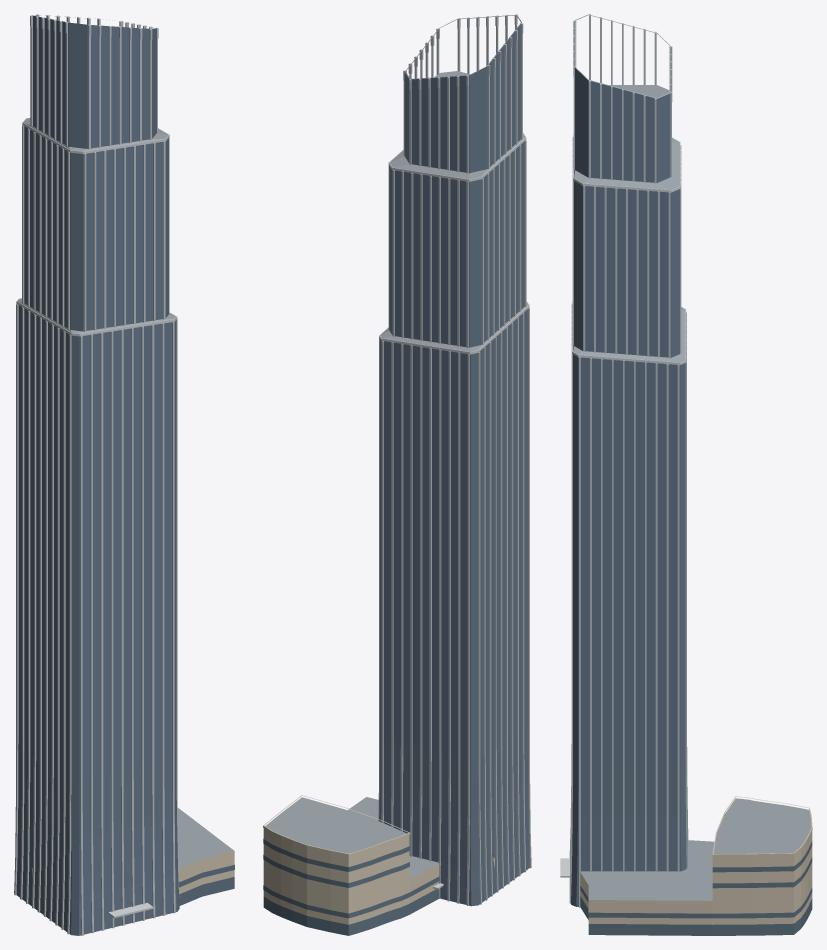
File: guangzhou-ctf-finance-centre.glb
The picture shows the model from 3 angles, left to right: view 1: azimuth 30°, elevation 25°; view 2: azimuth 150°, elevation 25°; view 3: azimuth 270°, elevation 25°; orthographic projection. The views are drawn at different scales.
Visible parts, largest first — view 1: Guangzhou CTF Finance Centre; view 2: Guangzhou CTF Finance Centre; view 3: Guangzhou CTF Finance Centre.
Boxes of the visible parts, bbox=[...] form: Guangzhou CTF Finance Centre: bbox=[14, 14, 234, 935]; Guangzhou CTF Finance Centre: bbox=[263, 14, 531, 935]; Guangzhou CTF Finance Centre: bbox=[560, 14, 812, 935].
Size of the model in its own units: 107 by 530 by 143.
